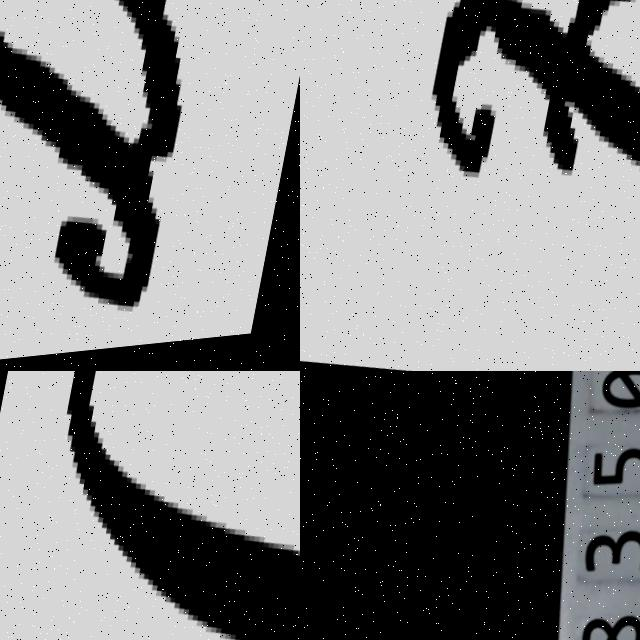0: (578, 371, 640, 440)
3: (563, 519, 640, 607)
5: (573, 439, 640, 519)
8: (560, 605, 640, 640)
D: (0, 0, 244, 248)
E: (394, 0, 640, 224)
G: (11, 371, 300, 640)
